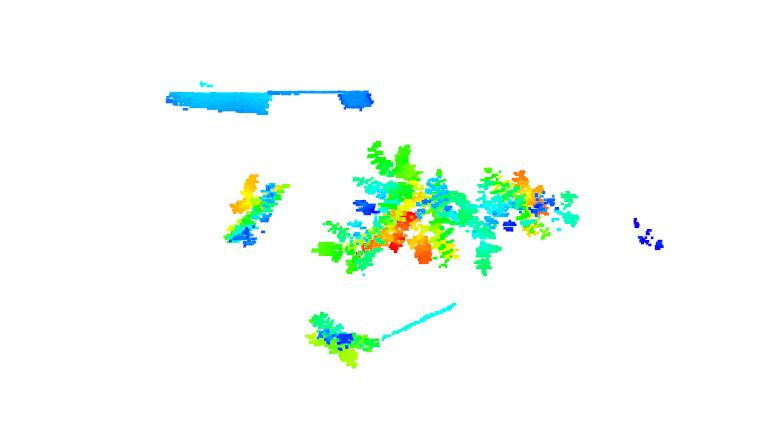chickpea: (357, 142, 459, 266), (444, 169, 512, 279), (487, 171, 582, 240), (304, 214, 386, 282), (222, 173, 292, 250), (307, 311, 384, 369)
